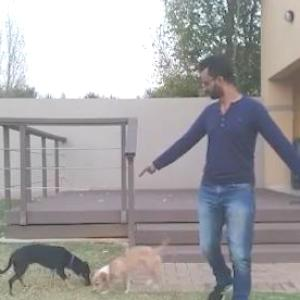land: (114, 35, 299, 299)
